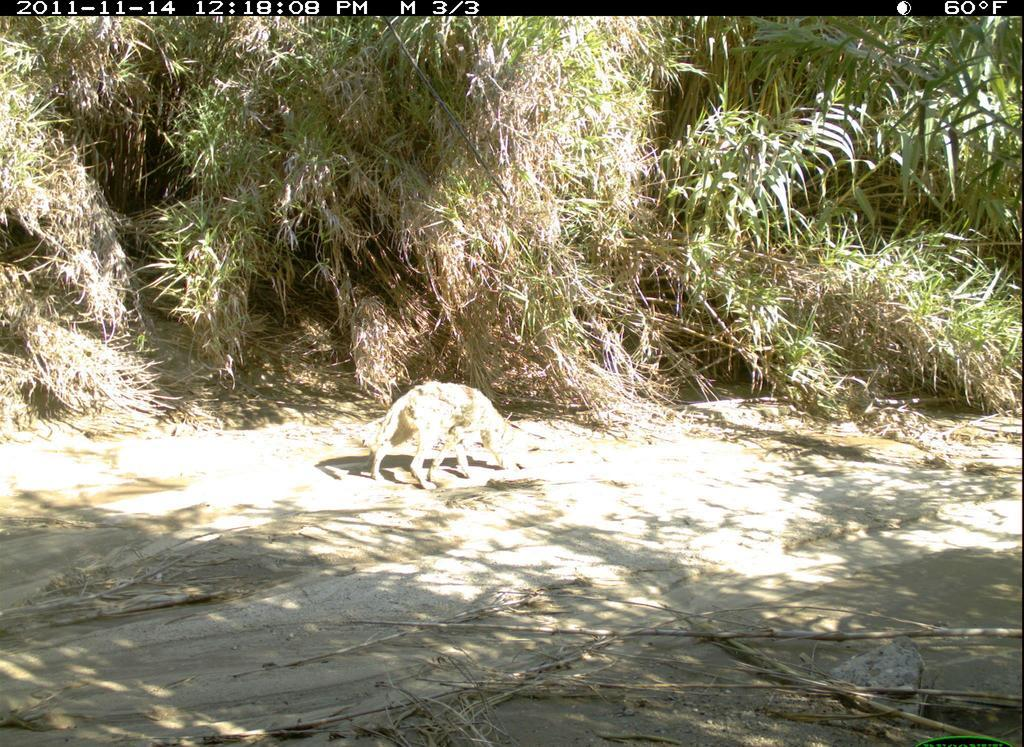coyote: (360, 377, 545, 500)
